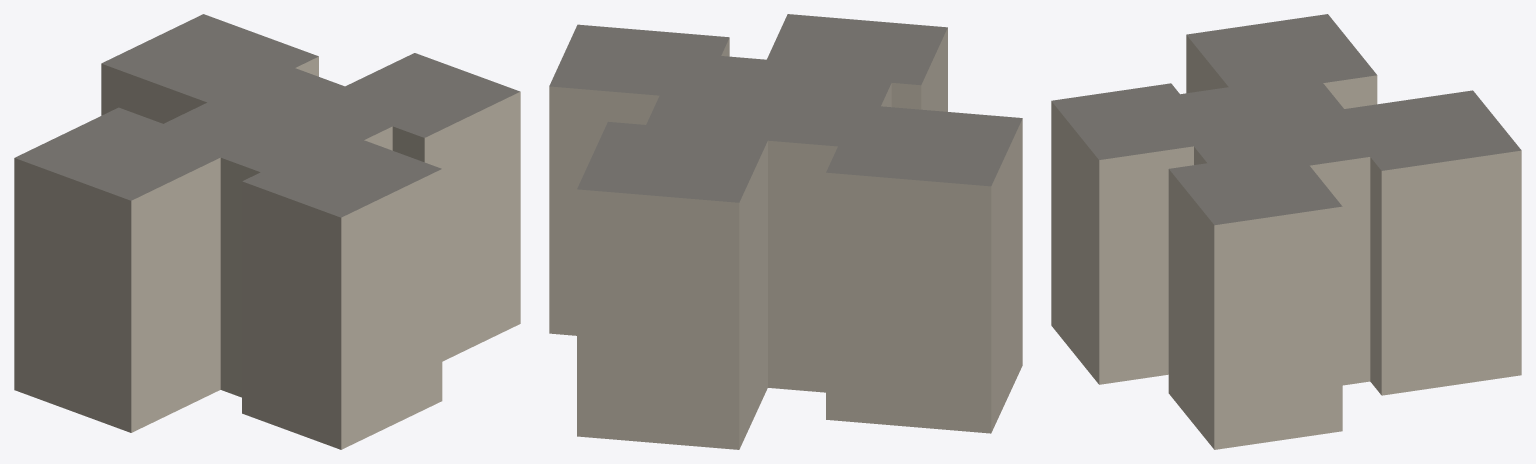
3 views of the same model, side by side, from view 1: azimuth 30°, elevation 25°; view 2: azimuth 150°, elevation 25°; view 3: azimuth 270°, elevation 25° (orthographic). The views are drawn at different scales.
Parts seen in each view (by area): view 1: HP-w1435252845; view 2: HP-w1435252845; view 3: HP-w1435252845.
Boxes of the visible parts, x1,y1,x2,y2 form: HP-w1435252845: (14, 14, 520, 449); HP-w1435252845: (549, 14, 1022, 449); HP-w1435252845: (1051, 14, 1521, 449).
Bounding box in the file's own units: 36.29 × 18 × 34.16.
